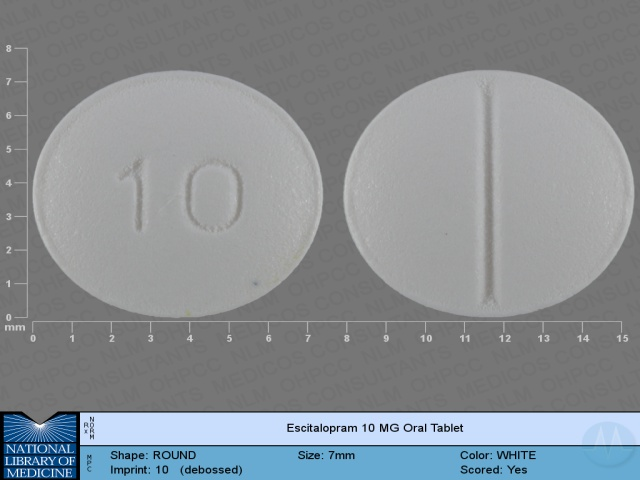0: (182, 153, 246, 236)
1: (110, 153, 154, 240)
|: (469, 78, 507, 315)
